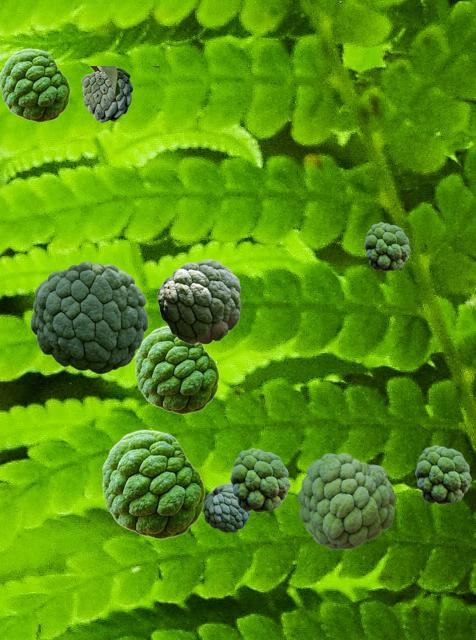atis: (30, 261, 147, 373), (102, 429, 204, 538), (297, 453, 394, 548), (135, 325, 218, 413), (157, 259, 240, 343), (0, 48, 69, 121), (81, 66, 159, 121), (230, 448, 289, 511), (415, 445, 470, 503), (204, 483, 249, 531), (364, 222, 409, 270)
